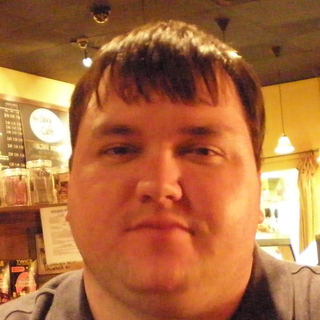eye: (173, 141, 231, 167), (96, 139, 141, 162)
